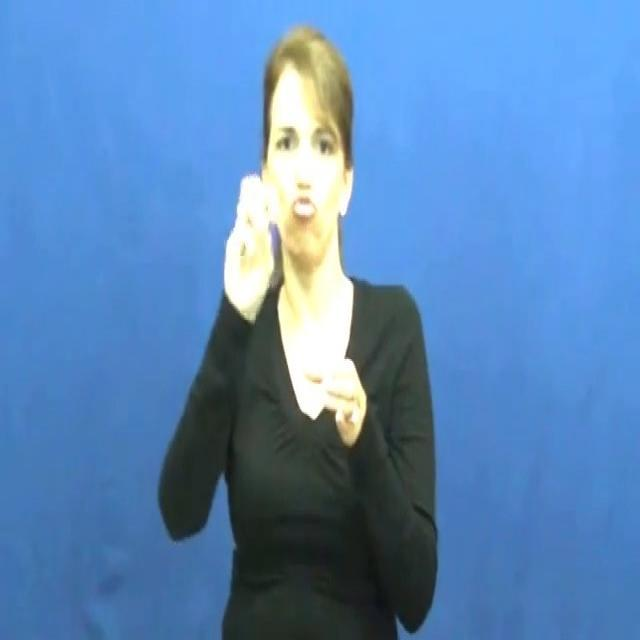straw: (220, 160, 303, 316)
